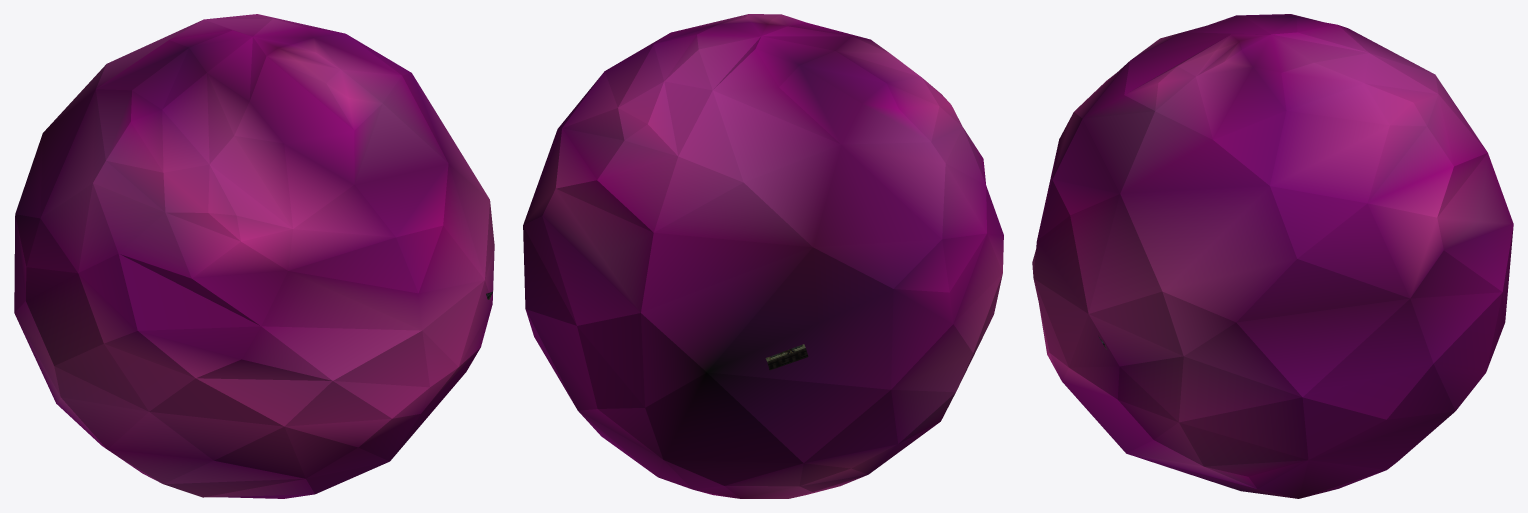
3 views of the same model, side by side, from view 1: azimuth 30°, elevation 25°; view 2: azimuth 150°, elevation 25°; view 3: azimuth 270°, elevation 25° (orthographic).
Visible parts, largest first — view 1: part3; view 2: part3, part1; view 3: part3.
Part boxes in pixels (x1=…): part3: x1=14, y1=14, x2=494, y2=498; part3: x1=523, y1=14, x2=1003, y2=498; part1: x1=765, y1=344, x2=808, y2=370; part3: x1=1032, y1=14, x2=1513, y2=498.
Size of the model in its own units: 12.82 by 13.03 by 12.81.
Materials: 37 (35 with a texture image).
